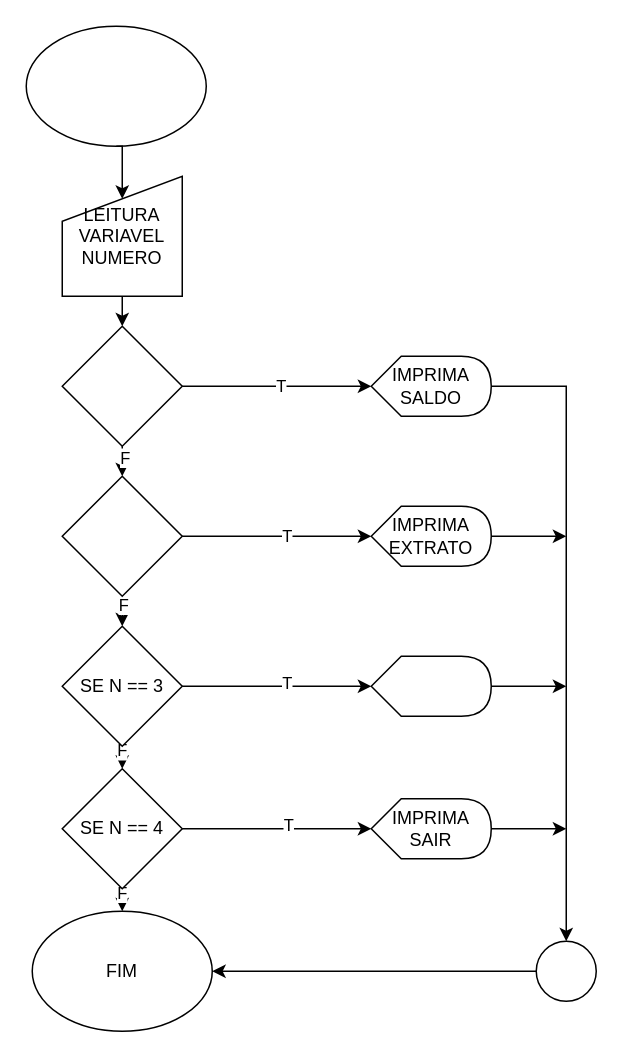
This 623x1058 diagram has some shape labels left out. The shapes that lost their labels are listed below. From the top down, each one's centre as x and y in pixels, then its label:
the point at 115,85: INICIO
the point at 121,385: SE N == 1
the point at 121,535: SE N == 2
the point at 430,685: IMPRIMA SAQUE
